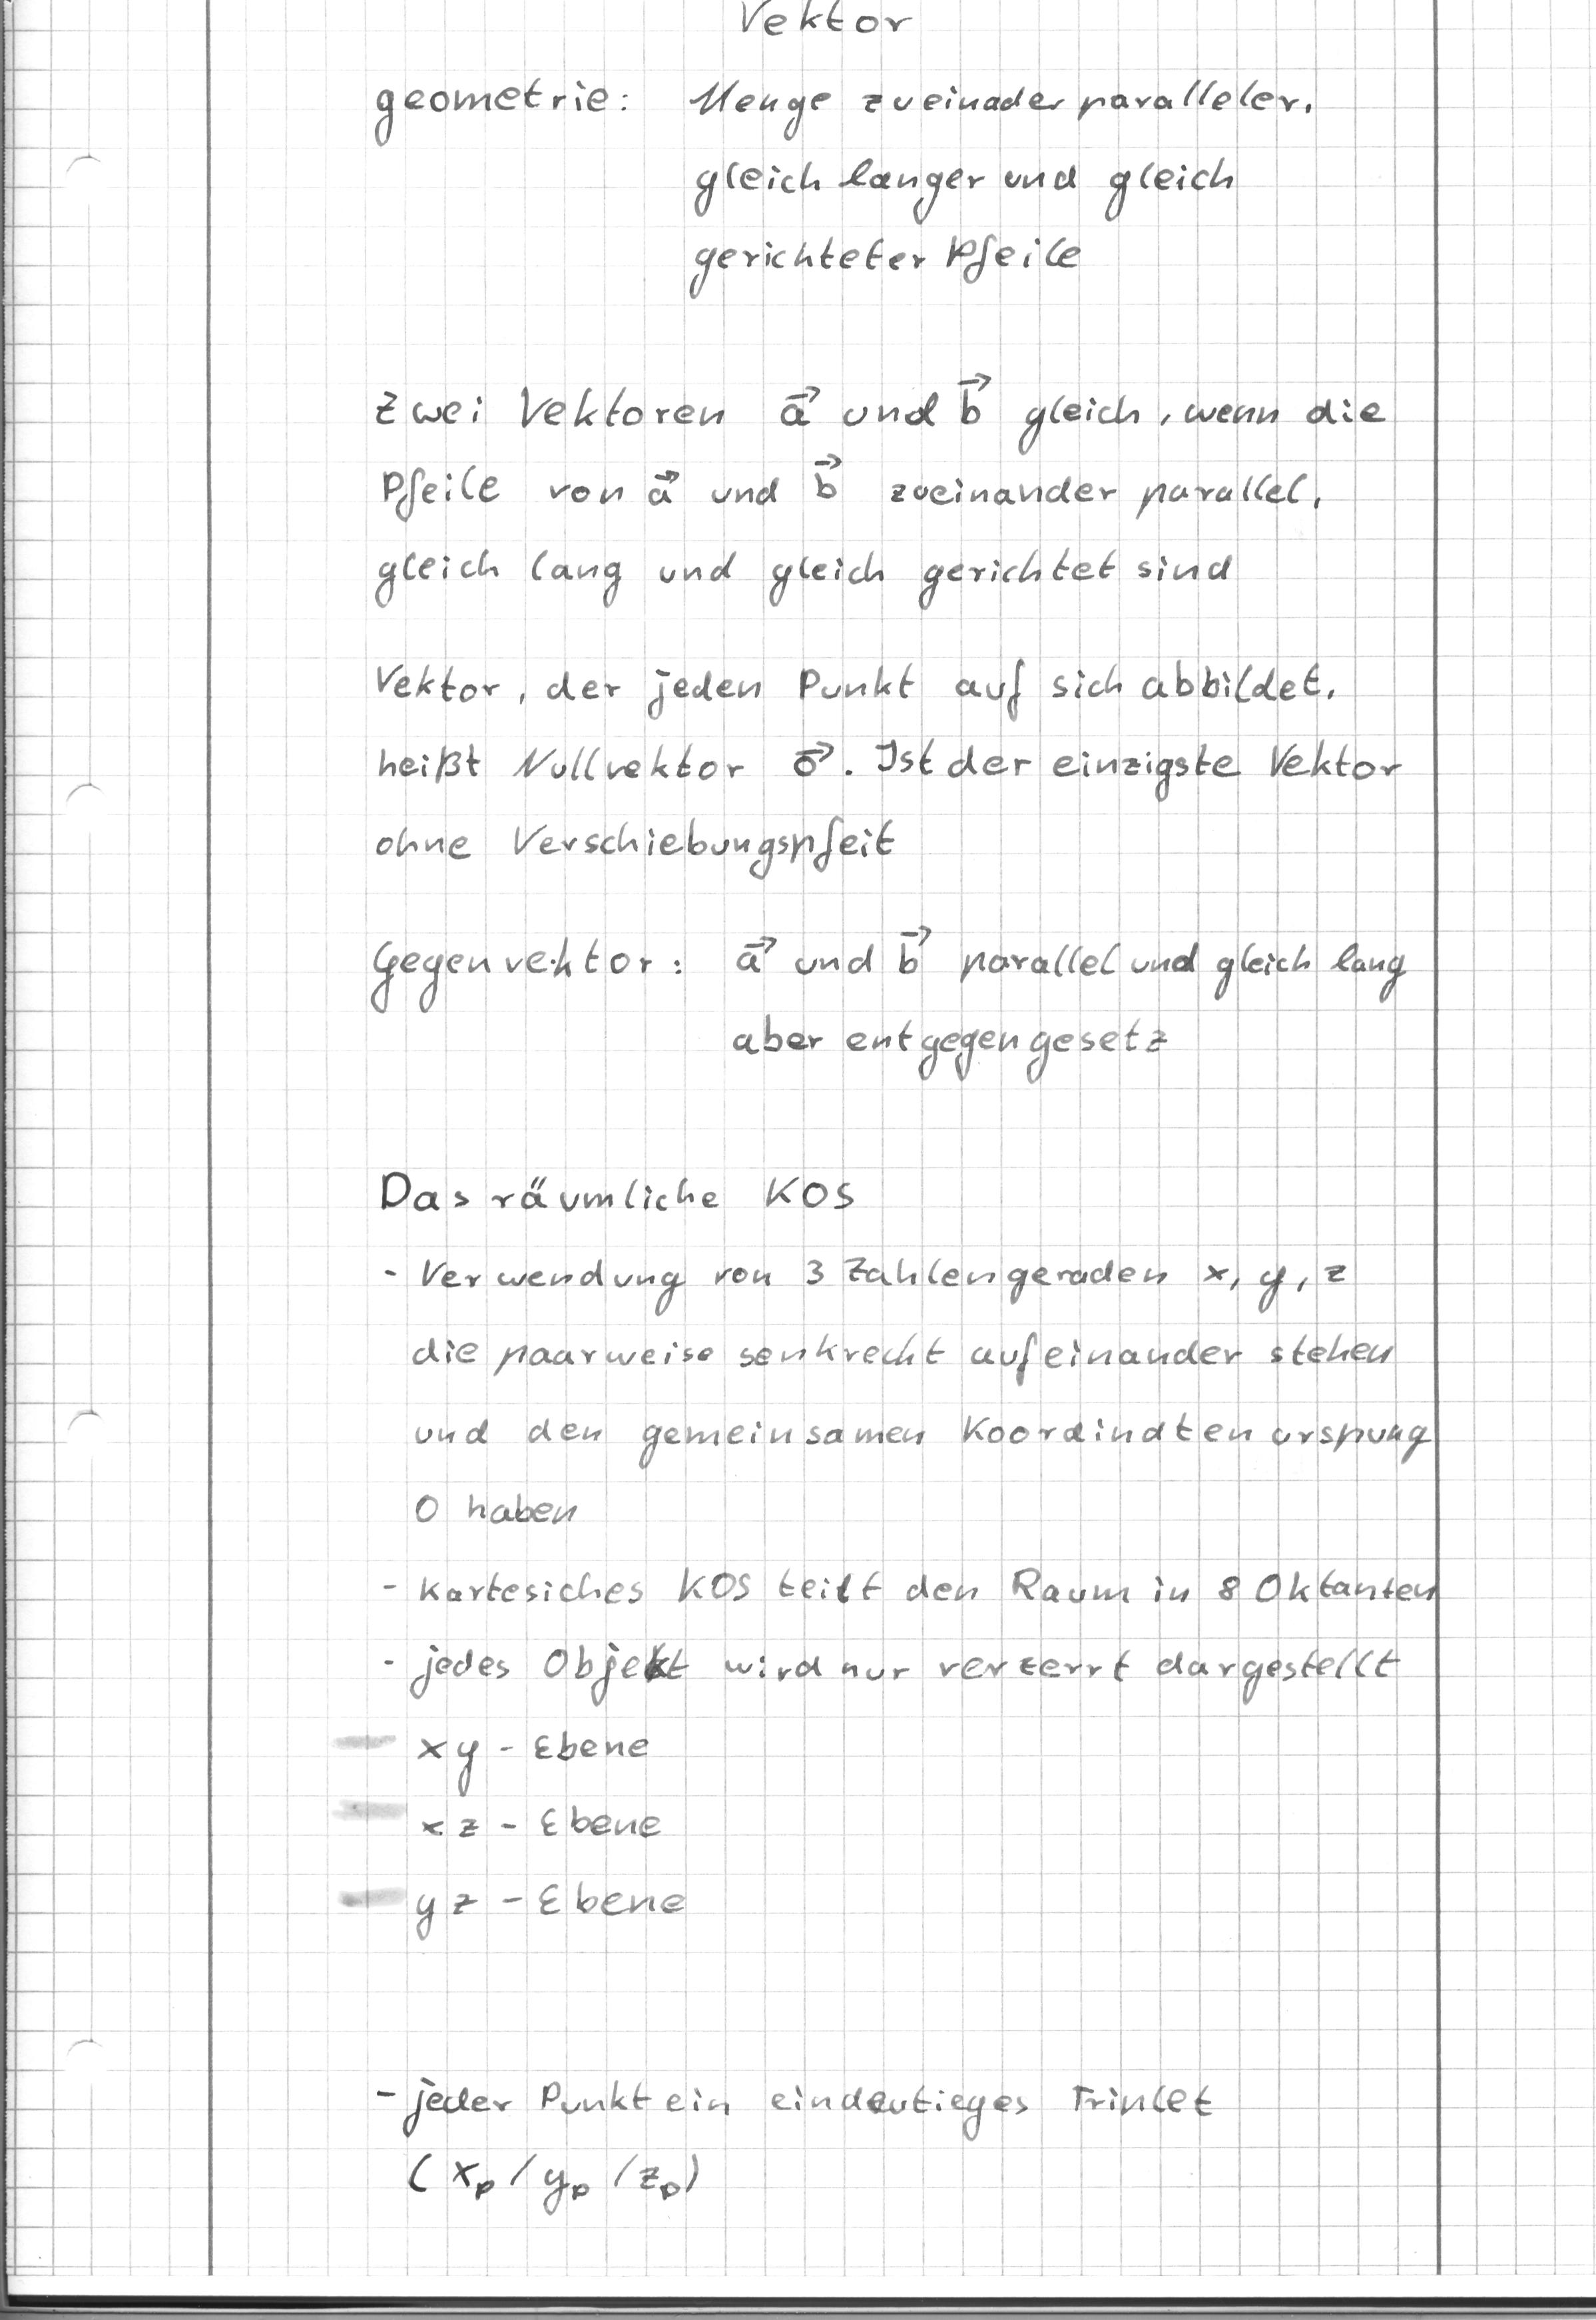word: (373, 1239, 1434, 1534), (357, 653, 1402, 904), (352, 380, 1386, 621), (361, 918, 1421, 1101), (367, 1557, 1436, 1717), (668, 66, 1317, 307), (364, 2062, 1223, 2217), (405, 1722, 699, 1954), (368, 1156, 869, 1233), (366, 59, 647, 158), (732, 0, 924, 44)
